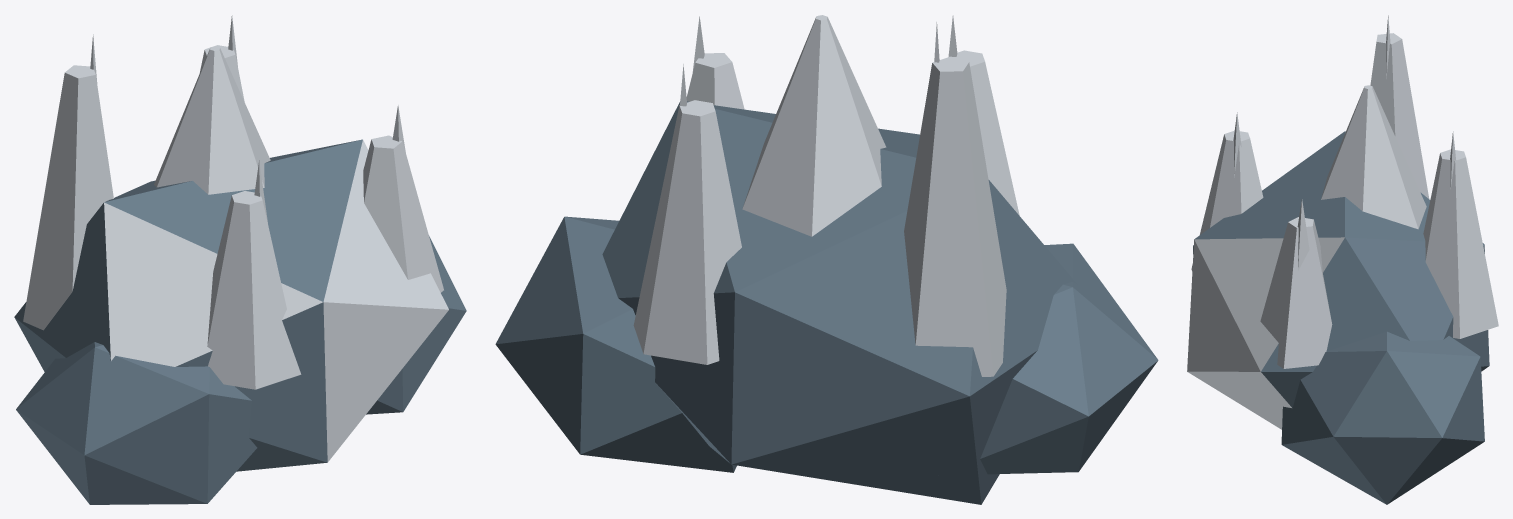
The model's file is ore_silver_ore.obj.
3 views of the same model, side by side, from view 1: azimuth 30°, elevation 25°; view 2: azimuth 150°, elevation 25°; view 3: azimuth 270°, elevation 25° (orthographic). The views are drawn at different scales.
Visible parts, largest first — view 1: ore_silver_ore; view 2: ore_silver_ore; view 3: ore_silver_ore.
Part boxes in pixels (x1,y1,x2,y2): ore_silver_ore: (14,15,466,504); ore_silver_ore: (495,15,1158,504); ore_silver_ore: (1187,15,1498,504).
Size of the model in its own units: 1.87 by 1.71 by 1.34.
